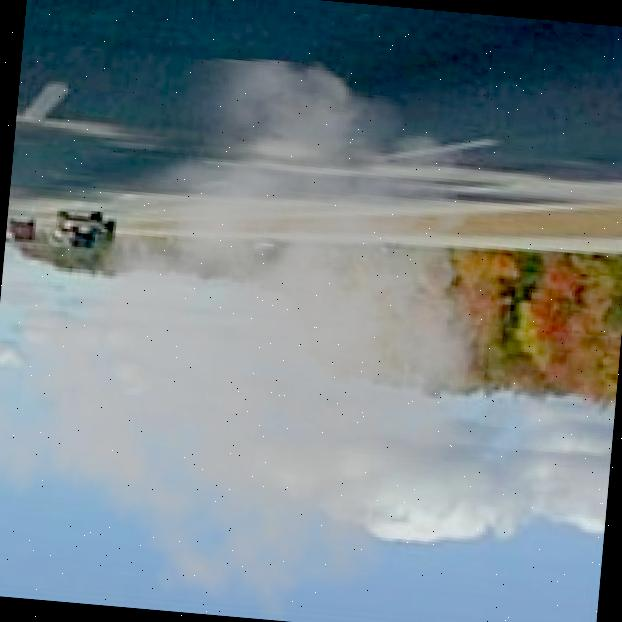smoke: (0, 33, 553, 622)
